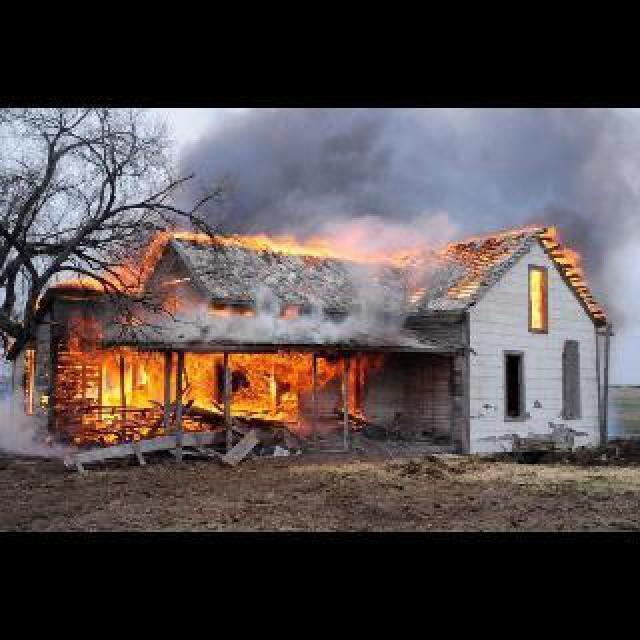Fire: (76, 348, 378, 442), (146, 228, 410, 258), (542, 226, 592, 274), (530, 262, 548, 332)
Smoke: (164, 106, 632, 228), (254, 272, 416, 338), (2, 340, 64, 456), (106, 310, 252, 342)
